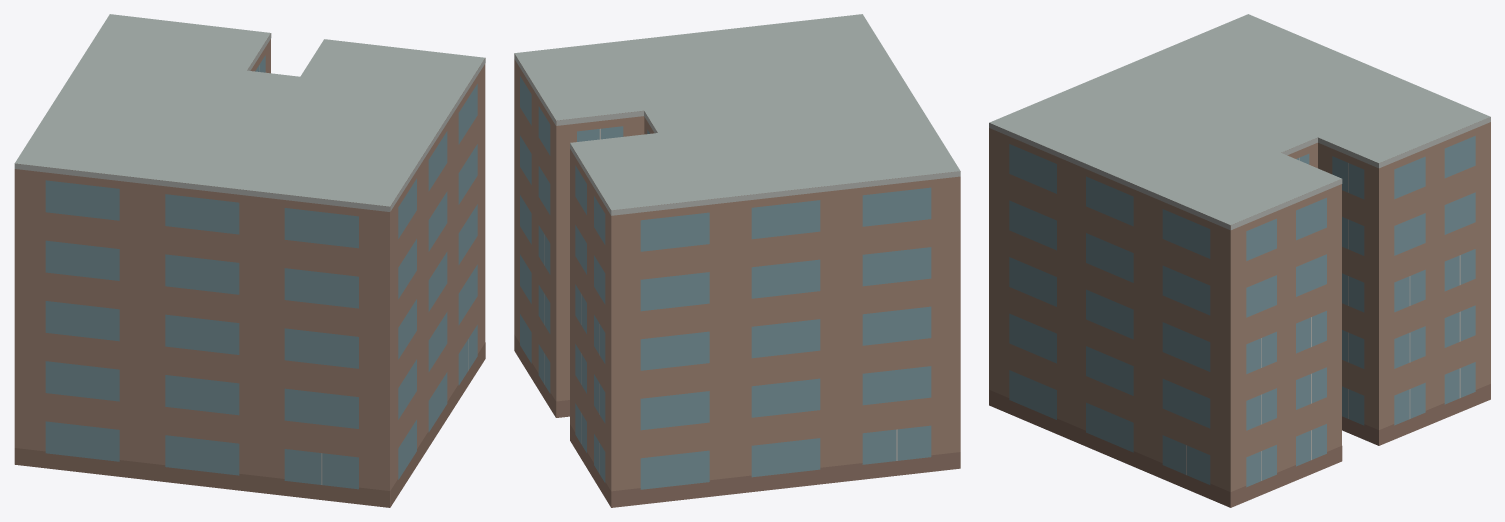
Rendered from survey-upis-32694749.glb.
3 renders of one model, left to right at view 1: azimuth 30°, elevation 25°; view 2: azimuth 150°, elevation 25°; view 3: azimuth 270°, elevation 25°, orthographic. The views are drawn at different scales.
Visible parts, largest first — view 1: survey-upis-32694749.tmp; view 2: survey-upis-32694749.tmp; view 3: survey-upis-32694749.tmp.
Boxes of the visible parts, x1=… form: survey-upis-32694749.tmp: x1=14, y1=14, x2=485, y2=507; survey-upis-32694749.tmp: x1=514, y1=14, x2=960, y2=507; survey-upis-32694749.tmp: x1=989, y1=14, x2=1490, y2=507.
Size of the model in its own units: 21.4 by 13.35 by 21.49.
